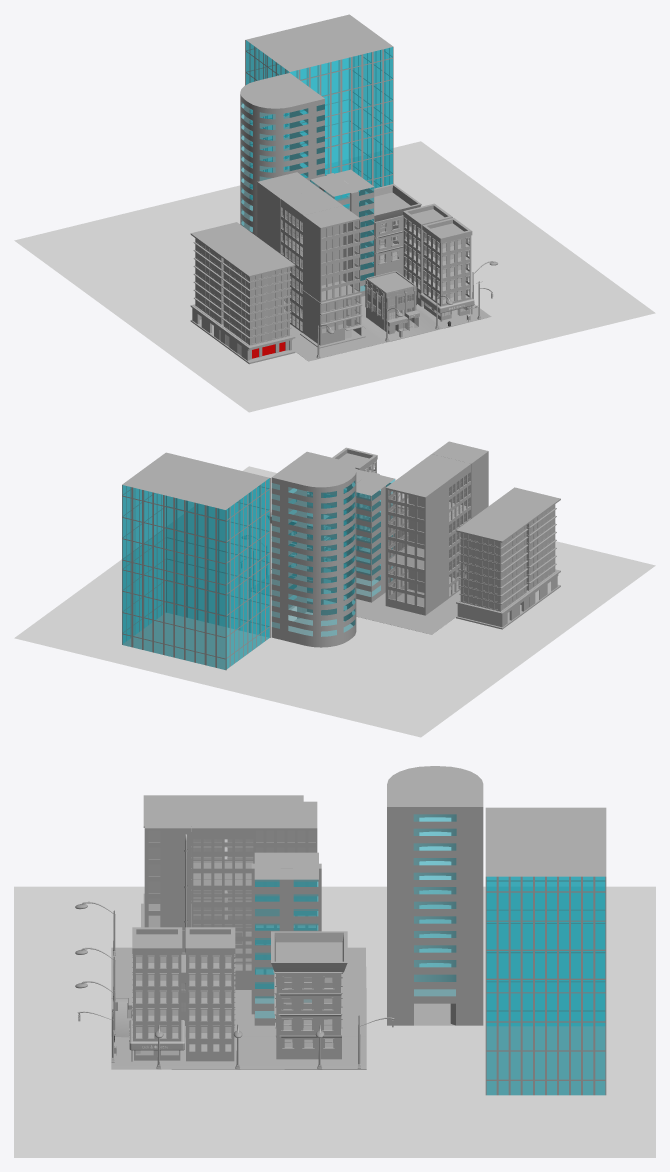
File: buildings+model.fbx
3 views of the same model, one above another, from view 1: azimuth 30°, elevation 25°; view 2: azimuth 150°, elevation 25°; view 3: azimuth 270°, elevation 25° (orthographic). The views are drawn at different scales.
Visible parts, largest first — view 1: Building11, Plane; view 2: Building11, Plane; view 3: Building11, Plane.
Part boxes in pixels (box(x1,y1,x2,y2)): Building11: box(190, 14, 497, 364); Plane: box(14, 141, 655, 412); Building11: box(122, 441, 560, 670); Plane: box(14, 466, 655, 737); Building11: box(75, 766, 606, 1095); Plane: box(14, 886, 655, 1157).
Size of the model in its own units: 12165 by 4679 by 12165.
